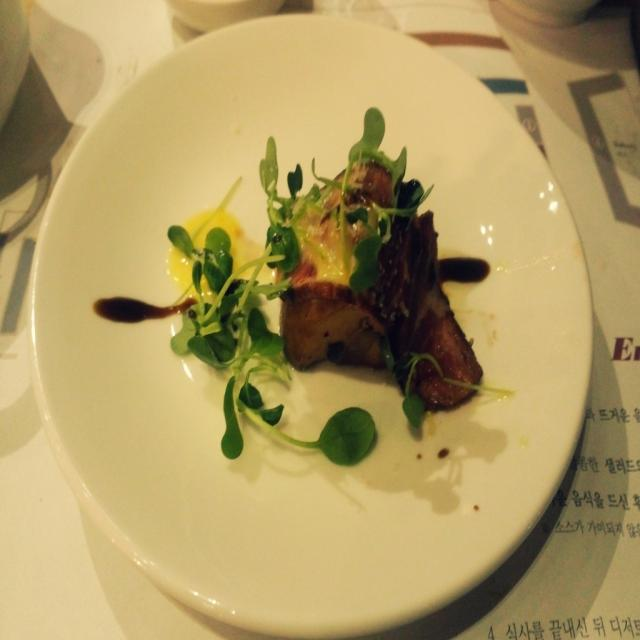non-organic waste: (28, 24, 596, 640)
